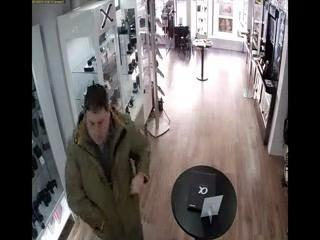shoplifting: (113, 166, 155, 218)
